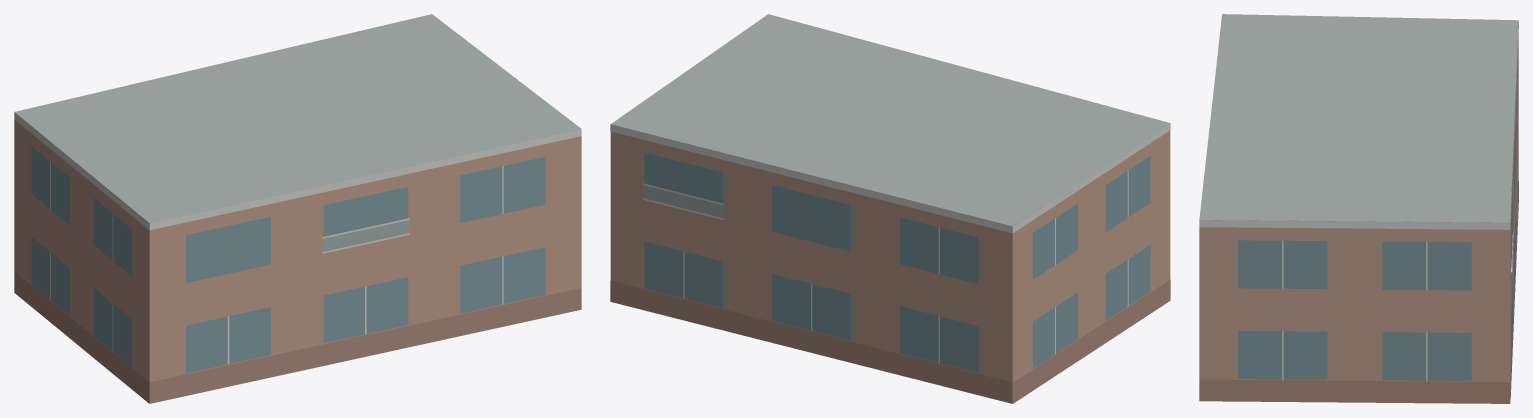
File: survey-upis-32940936.glb
The picture shows the model from 3 angles, left to right: view 1: azimuth 30°, elevation 25°; view 2: azimuth 150°, elevation 25°; view 3: azimuth 270°, elevation 25°; orthographic projection. The views are drawn at different scales.
Parts seen in each view (by area): view 1: survey-upis-32940936.tmp; view 2: survey-upis-32940936.tmp; view 3: survey-upis-32940936.tmp.
Boxes of the visible parts, x1,y1,x2,y2 form: survey-upis-32940936.tmp: [14, 14, 581, 403]; survey-upis-32940936.tmp: [610, 14, 1170, 403]; survey-upis-32940936.tmp: [1199, 14, 1518, 403].
Size of the model in its own units: 15.07 by 6.1 by 9.75.
